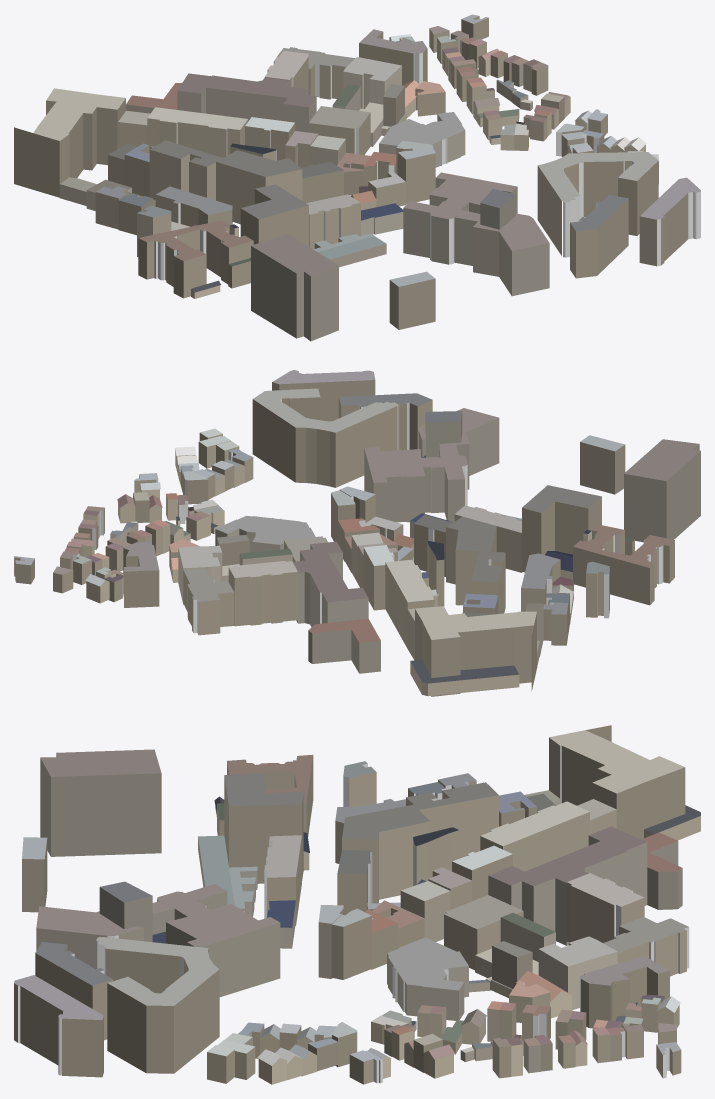
3 views of the same model, one above another, from view 1: azimuth 30°, elevation 25°; view 2: azimuth 150°, elevation 25°; view 3: azimuth 270°, elevation 25° (orthographic). The views are drawn at different scales.
Visible parts, largest first — view 1: tuile; view 2: tuile; view 3: tuile.
Boxes of the visible parts, <box> form: tuile: <box>14,14,700,341</box>; tuile: <box>14,370,700,696</box>; tuile: <box>14,725,700,1084</box>.
Bounding box in the file's own units: 274 × 36.21 × 268.
